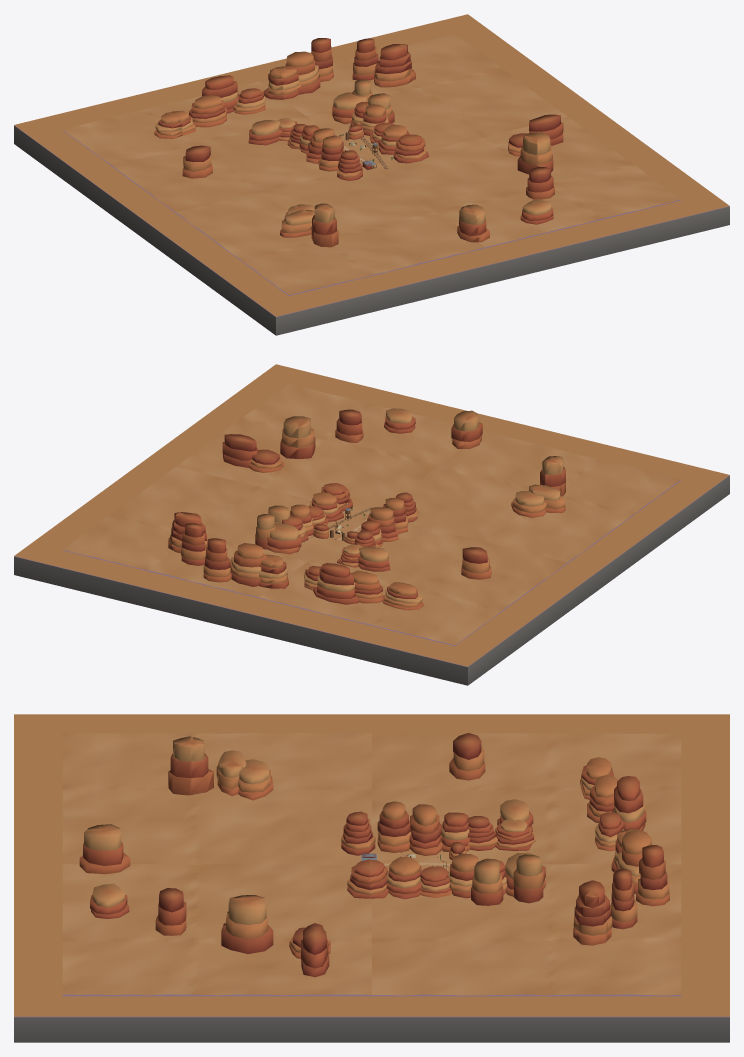
3 renders of one model, top to bottom at view 1: azimuth 30°, elevation 25°; view 2: azimuth 150°, elevation 25°; view 3: azimuth 270°, elevation 25°, orthographic. The views are drawn at different scales.
Visible parts, largest first — view 1: near-placeholder; view 2: near-placeholder; view 3: near-placeholder.
Part boxes in pixels (x1,y1,x2,y2): near-placeholder: [14, 14, 729, 335]; near-placeholder: [14, 364, 729, 685]; near-placeholder: [14, 714, 729, 1042].
Bounding box in the file's own units: 500 × 58.2 × 500.
